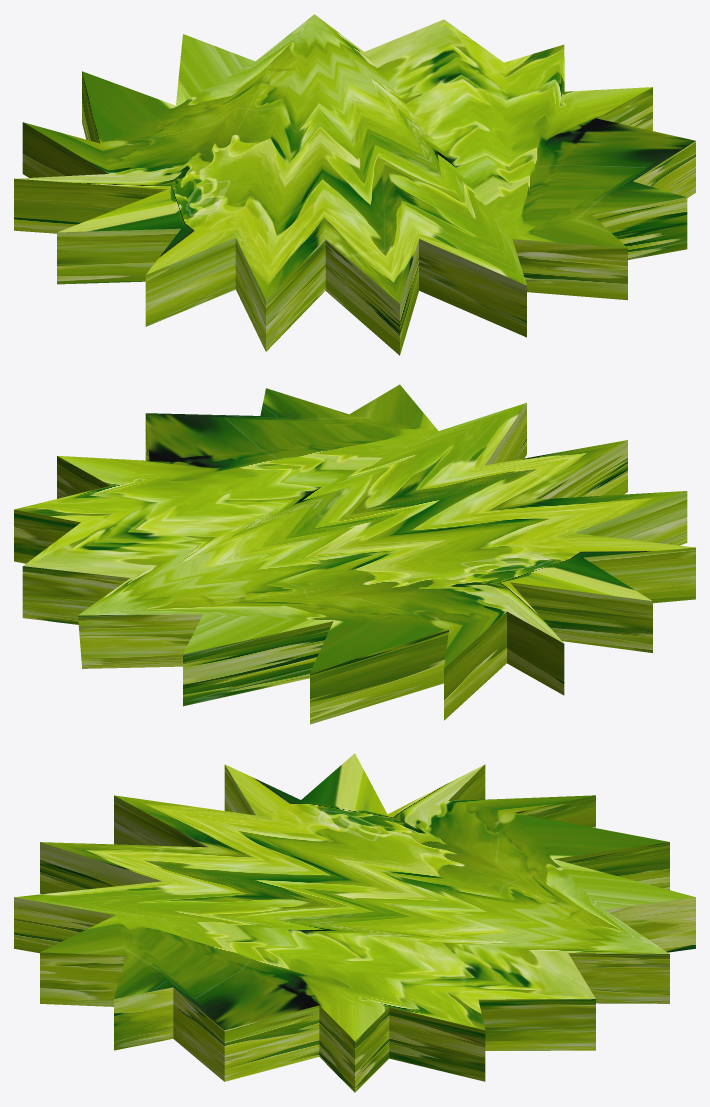
File: lechuga.obj
3 views of the same model, one above another, from view 1: azimuth 30°, elevation 25°; view 2: azimuth 150°, elevation 25°; view 3: azimuth 270°, elevation 25° (orthographic).
Visible parts, largest first — view 1: Cilindro.015; view 2: Cilindro.015; view 3: Cilindro.015.
Boxes of the visible parts, x1,y1,x2,y2 form: Cilindro.015: (14,14,695,355); Cilindro.015: (14,384,695,724); Cilindro.015: (14,753,695,1092).
Bounding box in the file's own units: 0.18 × 0.0152 × 0.18.
